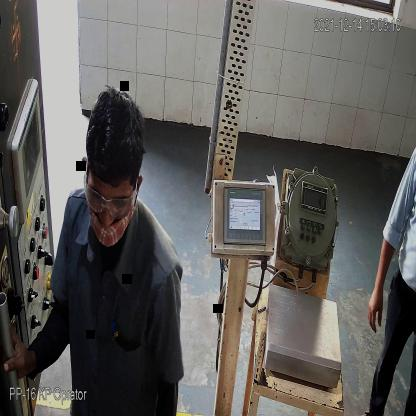goggles: (82, 176, 136, 218)
